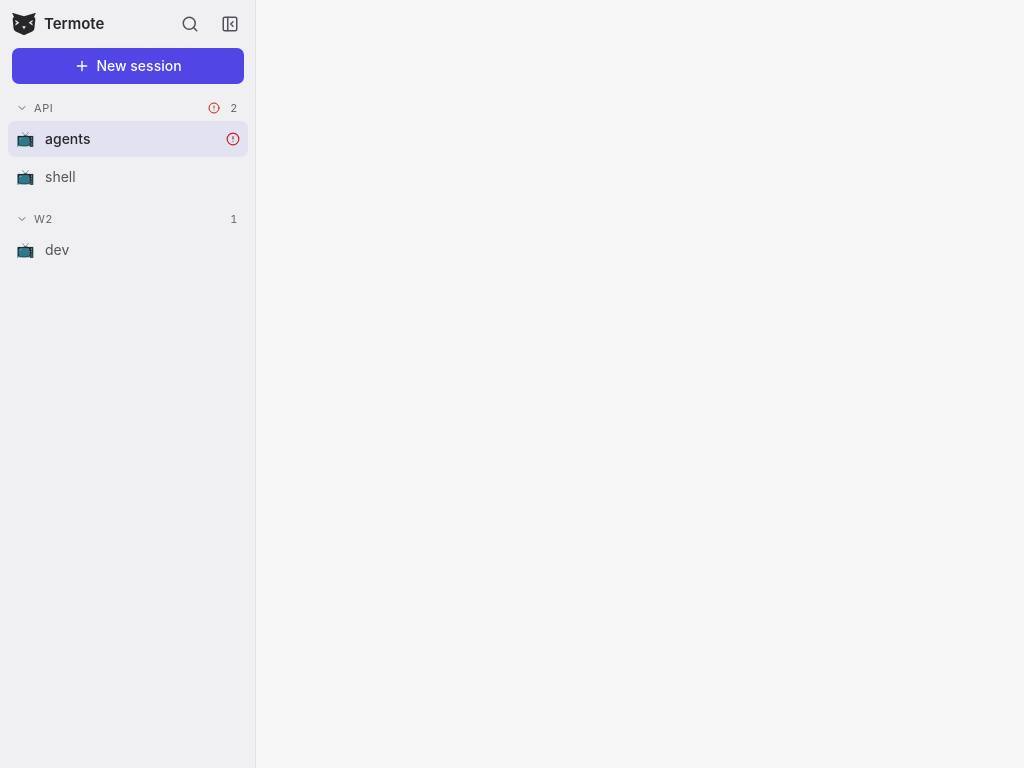
Scenario: SessionSidebar — groups › collapses one group and remembers it
Click the button "api 2". click: (127, 106)
box: [8, 92, 246, 120]
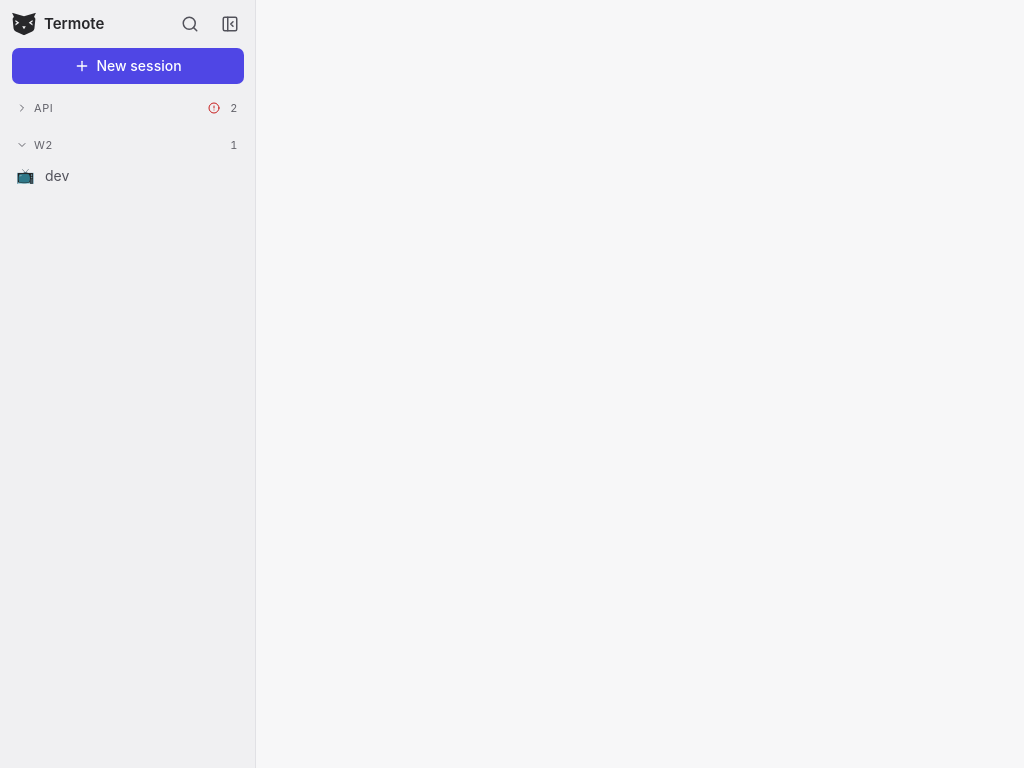
Check: the text "dev" is shown, box [45, 166, 69, 184]
Check: the button "agents" is gone
